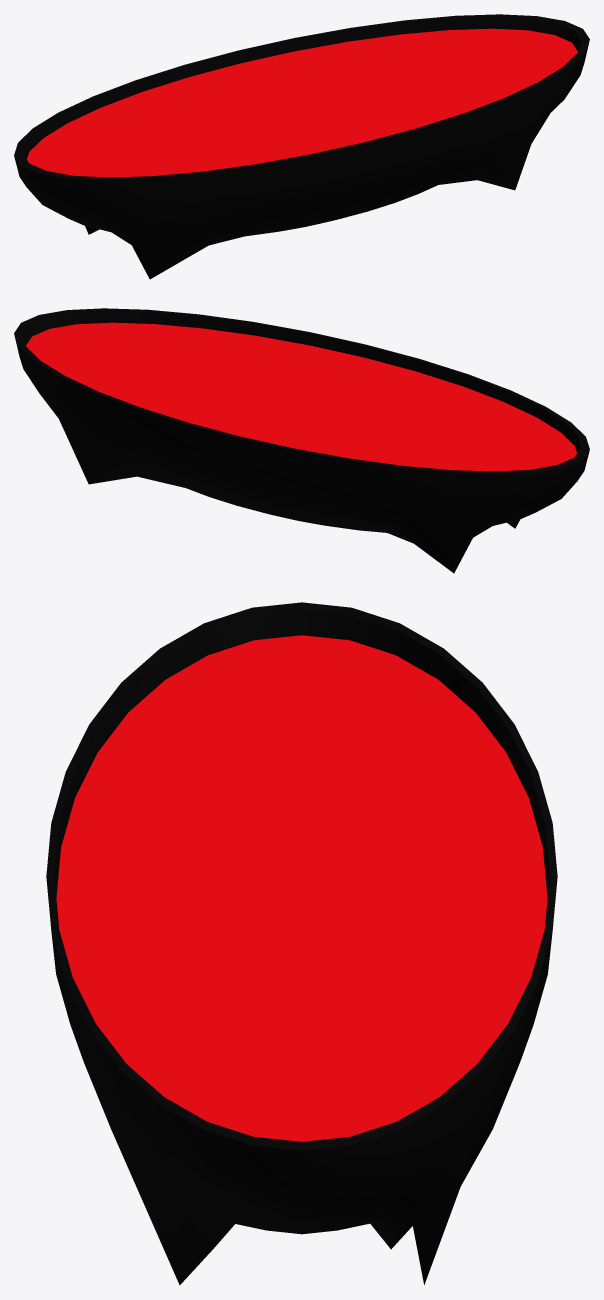
File: sacrifice.fbx
3 renders of one model, top to bottom at view 1: azimuth 30°, elevation 25°; view 2: azimuth 150°, elevation 25°; view 3: azimuth 270°, elevation 25°, orthographic. The views are drawn at different scales.
Visible parts, largest first — view 1: bath; view 2: bath; view 3: bath.
Part boxes in pixels (x1,y1,x2,y2): bath: (14,14,589,279); bath: (14,308,589,573); bath: (46,602,557,1285).
Bounding box in the file's own units: 278 × 109 × 54.91.
